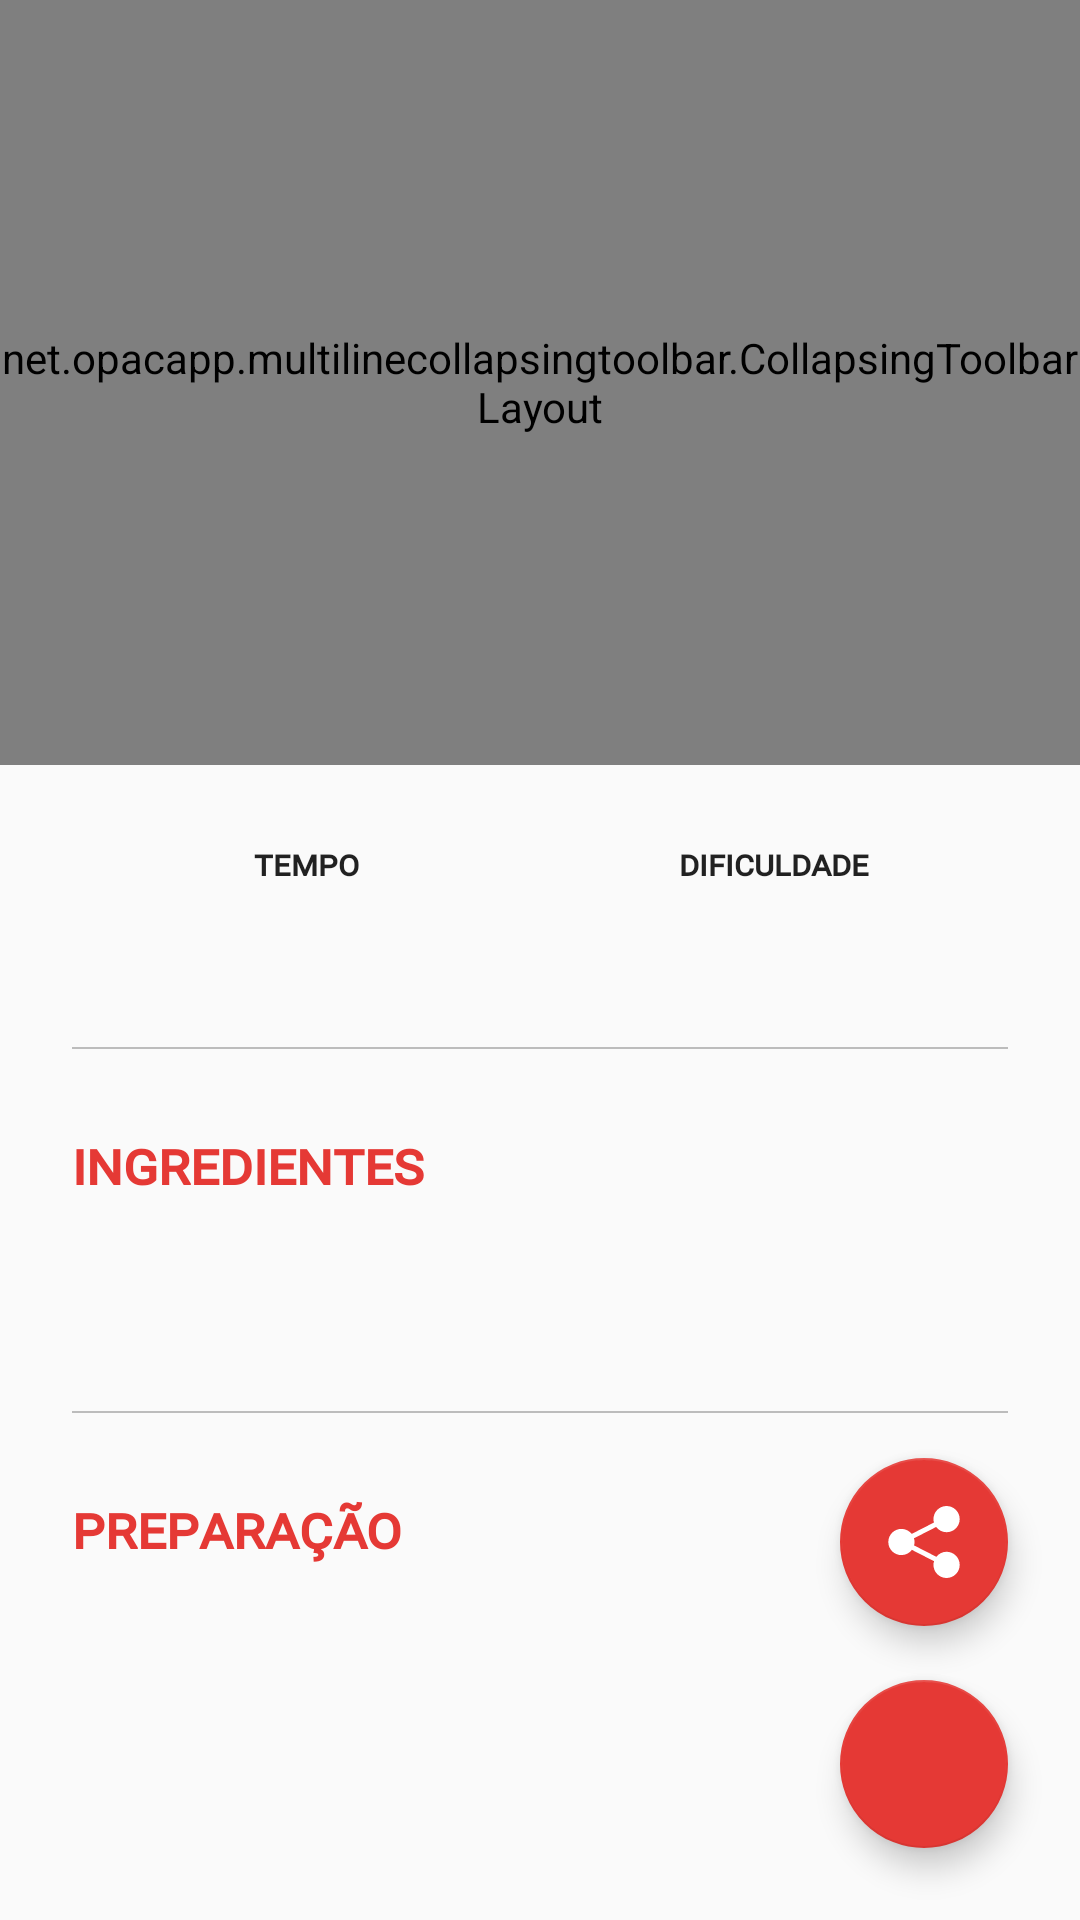

Where to tap for icons on this 1080x1920 app screen, as point (x, y):
share: point (924, 1542)
